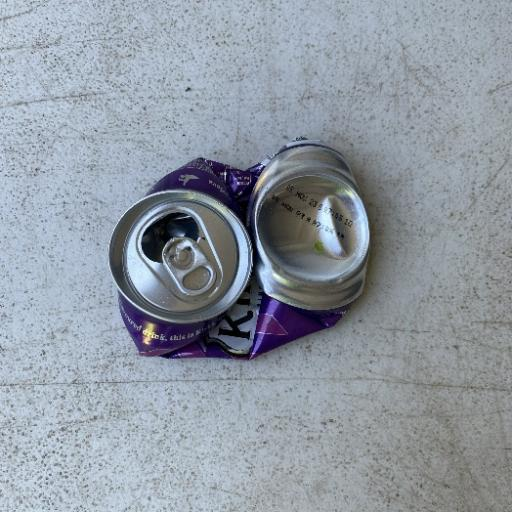Metal: (106, 135, 372, 361)
